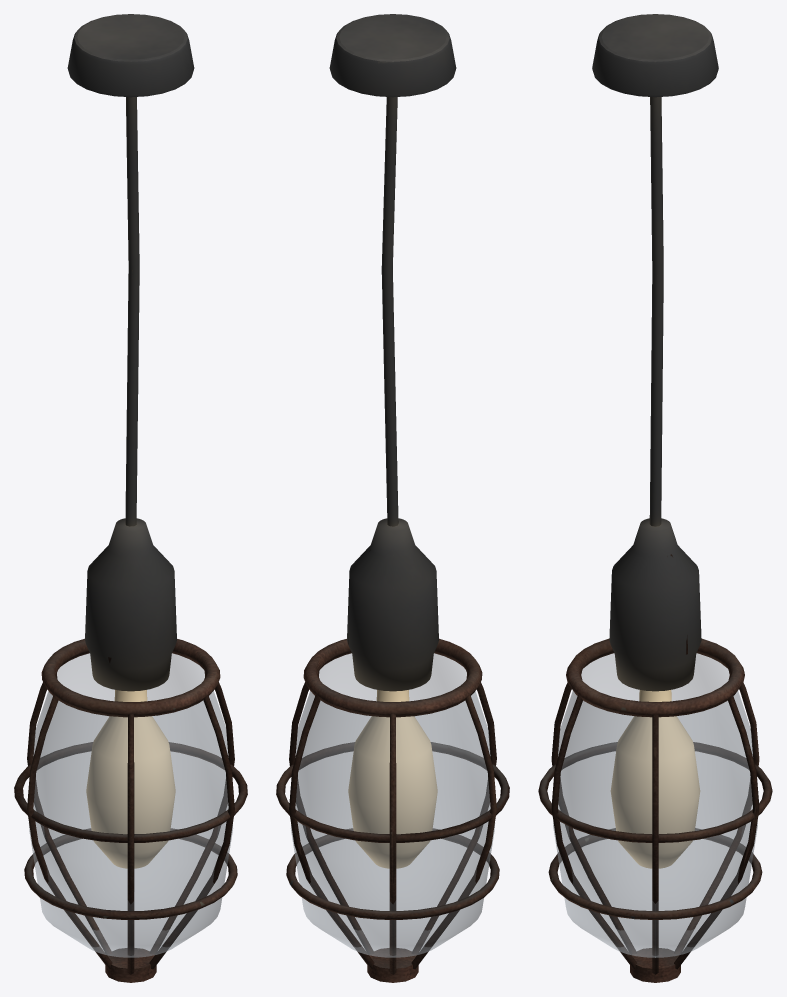
Rendered from Lamp_Caged.fbx.
3 renders of one model, left to right at view 1: azimuth 30°, elevation 25°; view 2: azimuth 150°, elevation 25°; view 3: azimuth 270°, elevation 25°, orthographic.
Visible parts, largest first — view 1: Lamp_Caged_Mesh, Lamp_Jar, Lamp_Bulb; view 2: Lamp_Caged_Mesh, Lamp_Jar, Lamp_Bulb; view 3: Lamp_Caged_Mesh, Lamp_Jar, Lamp_Bulb.
Boxes of the visible parts, x1,y1,x2,y2 form: Lamp_Caged_Mesh: (14, 14, 247, 982); Lamp_Jar: (29, 653, 232, 957); Lamp_Bulb: (86, 690, 175, 868); Lamp_Caged_Mesh: (276, 14, 509, 982); Lamp_Jar: (291, 653, 494, 957); Lamp_Bulb: (348, 690, 437, 868); Lamp_Caged_Mesh: (538, 14, 772, 982); Lamp_Jar: (553, 653, 757, 957); Lamp_Bulb: (610, 690, 700, 868).
Size of the model in its own units: 0.1874 by 0.806 by 0.183.
